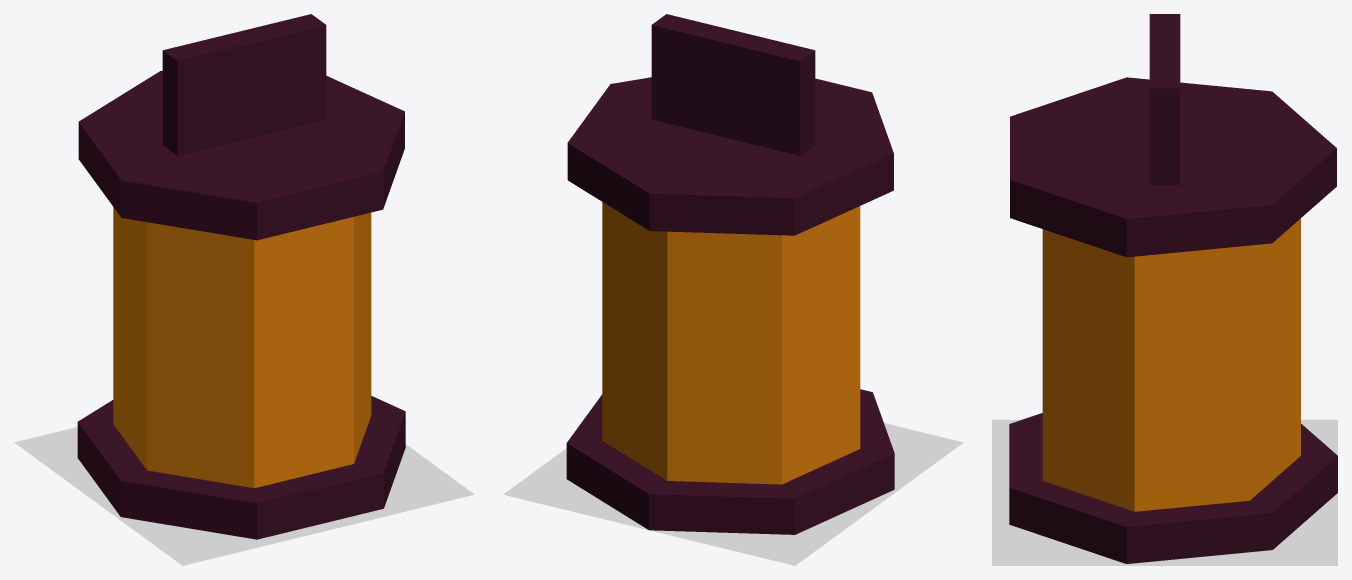
The model's file is Sky.glb.
3 views of the same model, side by side, from view 1: azimuth 30°, elevation 25°; view 2: azimuth 150°, elevation 25°; view 3: azimuth 270°, elevation 25° (orthographic). The views are drawn at different scales.
Parts seen in each view (by area): view 1: Cube, Plane; view 2: Cube, Plane; view 3: Cube, Plane.
Boxes of the visible parts, box(x1,y1,x2,y2) form: Cube: box(77, 14, 405, 539); Plane: box(14, 427, 474, 565); Cube: box(566, 14, 894, 534); Plane: box(503, 423, 963, 565); Cube: box(1009, 14, 1337, 563); Plane: box(992, 419, 1337, 565).
Bounding box in the file's own units: 2 × 2.82 × 2.
